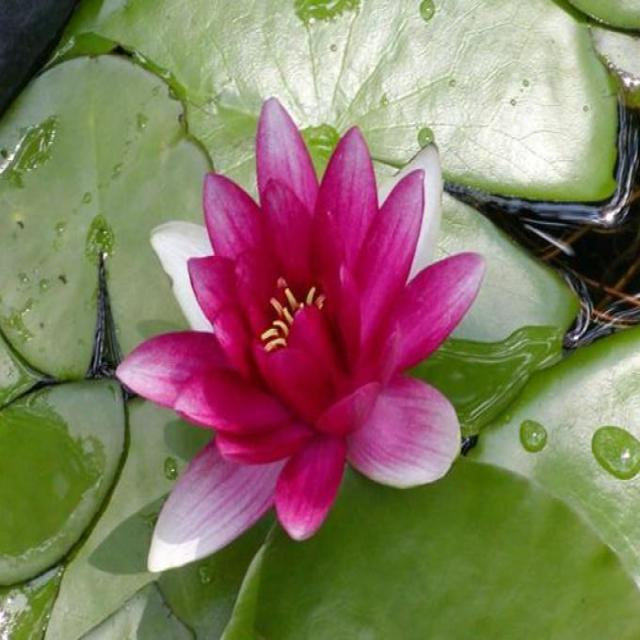water-lily: (144, 100, 480, 577)
